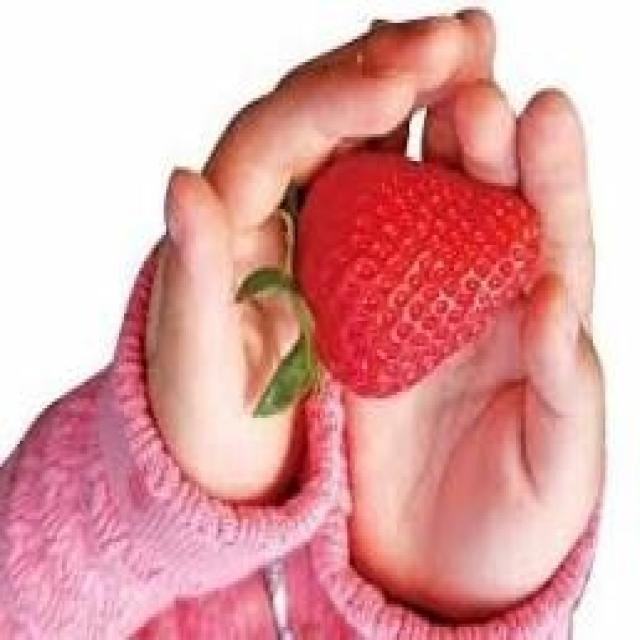mature: (292, 148, 541, 402)
